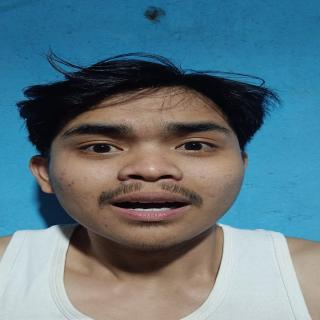Takut: (44, 79, 253, 254)
